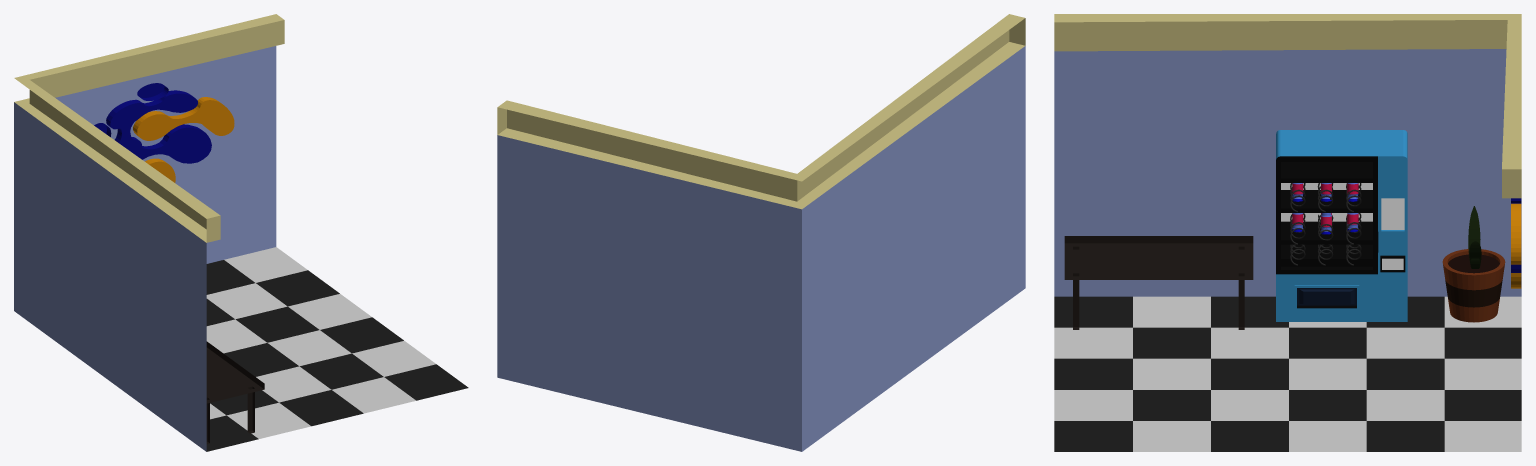
The model's file is AnimatedObject0008.obj.
3 views of the same model, side by side, from view 1: azimuth 30°, elevation 25°; view 2: azimuth 150°, elevation 25°; view 3: azimuth 270°, elevation 25° (orthographic). The views are drawn at different scales.
Visible parts, largest first — view 1: ruangan_Cube.003, meja_Cube.004, logo_Circle.005, logo.001_Circle.001, logo.005_Circle.002; view 2: ruangan_Cube.003; view 3: ruangan_Cube.003, vending_machine_Cube.001, meja_Cube.004, pot_bunga_Cylinder, per_second\_Spiral.010, Plane.007, logo_Circle.005.
Part boxes in pixels (x1,y1,x2,y2): ruangan_Cube.003: (14,14,468,451); meja_Cube.004: (206,341,264,444); logo_Circle.005: (133,97,234,140); logo.001_Circle.001: (115,124,211,163); logo.005_Circle.002: (106,90,197,132); ruangan_Cube.003: (497,14,1025,451); ruangan_Cube.003: (1054,14,1521,451); vending_machine_Cube.001: (1276,130,1407,321); meja_Cube.004: (1064,236,1253,329); pot_bunga_Cylinder: (1442,249,1505,322); per_second\_Spiral.010: (1290,183,1361,265); Plane.007: (1468,206,1481,268); logo_Circle.005: (1511,203,1521,264).
Size of the model in its own units: 11.73 by 9.95 by 14.9.
